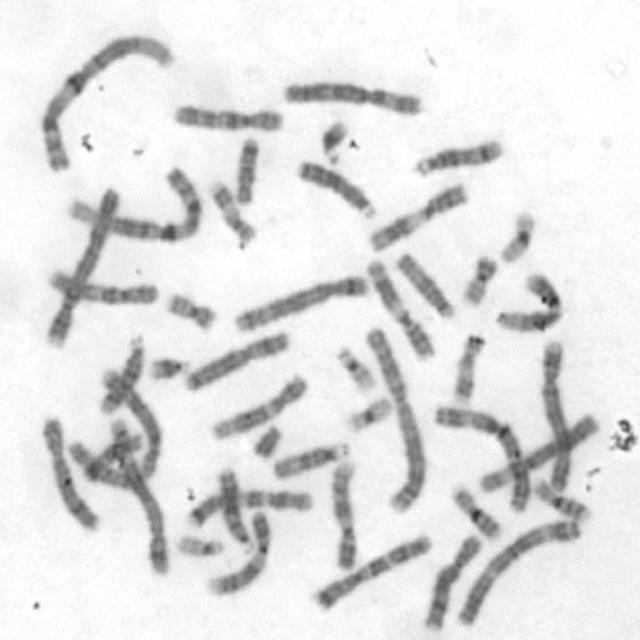A1: (34, 31, 176, 175), (61, 163, 204, 245)
A2: (355, 326, 427, 514), (66, 364, 164, 484)
A3: (451, 514, 584, 628), (430, 400, 532, 516)
B4: (41, 182, 124, 350), (536, 336, 574, 493)
B5: (108, 415, 174, 578), (228, 270, 369, 335)
C10: (43, 264, 160, 309), (168, 99, 284, 134)
C11: (362, 178, 470, 255), (362, 254, 437, 362)
C12: (207, 370, 310, 442), (482, 273, 566, 335)
C6: (473, 409, 601, 495), (277, 76, 425, 118)
C7: (305, 528, 435, 614), (180, 482, 314, 529)
C8: (38, 412, 100, 532), (419, 530, 484, 632)
C9: (202, 506, 272, 598), (327, 456, 359, 572)
D13: (292, 154, 377, 220), (213, 465, 252, 548)
D14: (95, 329, 146, 415), (409, 134, 506, 179)
D15: (393, 248, 458, 320), (268, 437, 353, 481)
E16: (448, 480, 502, 540), (530, 472, 592, 522)
E17: (205, 176, 257, 246), (448, 328, 487, 403)
E18: (80, 432, 145, 483), (230, 133, 261, 205)
F19: (494, 206, 538, 266), (342, 391, 394, 434)
F20: (455, 248, 500, 308), (161, 286, 218, 331)
G21: (316, 115, 350, 165), (146, 350, 192, 383)
G22: (332, 342, 378, 394), (172, 530, 226, 559)
X: (180, 326, 291, 394)
Y: (248, 420, 284, 459)
